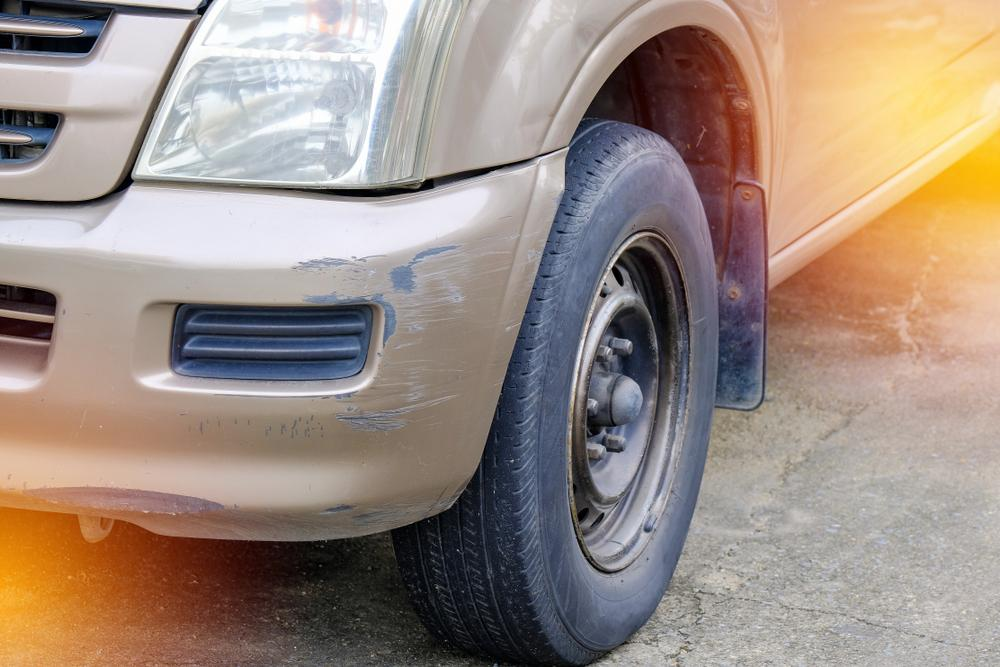scratch: (293, 233, 538, 438), (26, 485, 229, 515), (316, 499, 452, 535), (185, 410, 330, 435)
